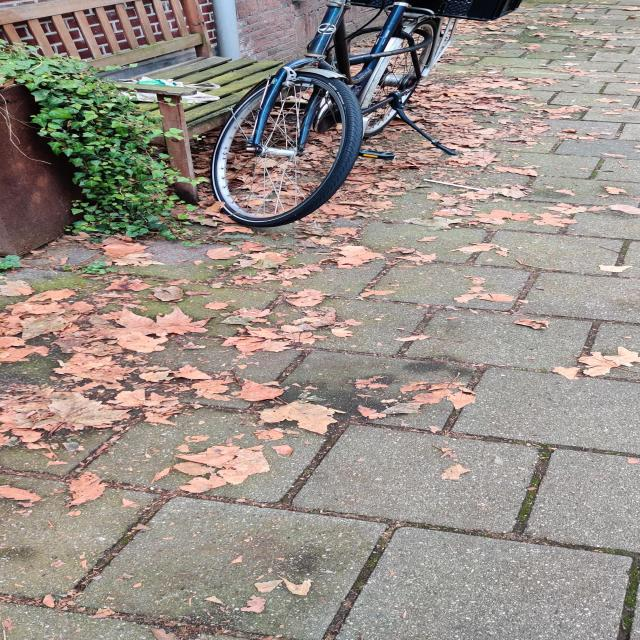litter: (96, 70, 217, 105), (131, 76, 168, 87)
